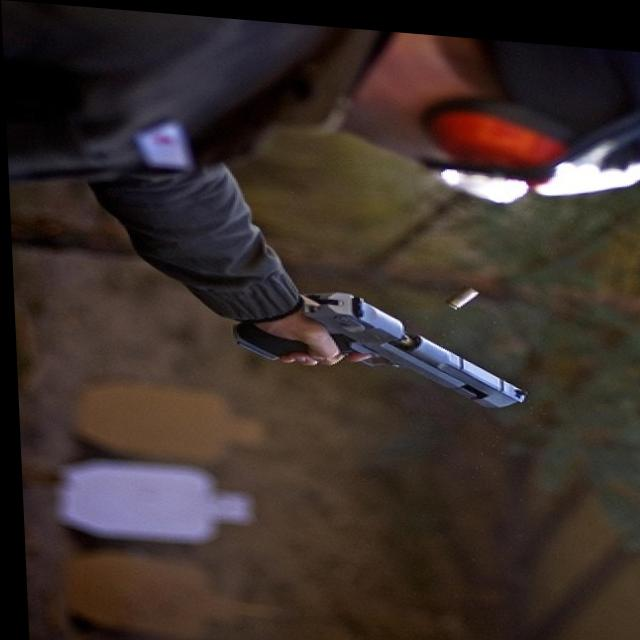handgun: (223, 281, 546, 406)
